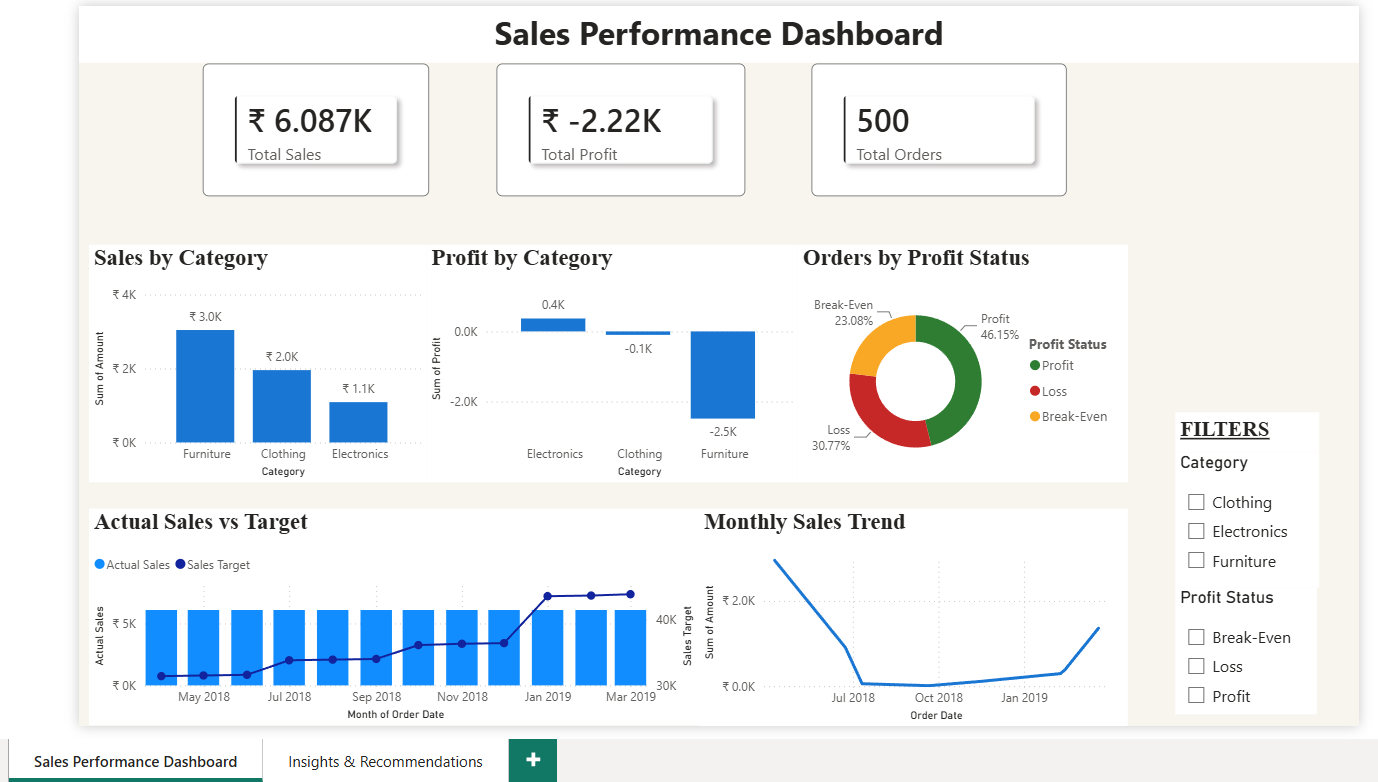

This screenshot's page, from the dashboard's own definition file:
{"tool":"powerbi","page":{"name":"Sales Performance Dashboard","canvas":[1280,720],"ordinal":0},"visuals":[{"type":"cardVisual","title":"Total Sales","fields":{"Data":["Sum(Orders Data.Amount)"]},"box":[123.8,57.5,226.2,132.5],"z":0},{"type":"cardVisual","title":"Total Profit","fields":{"Data":["Sum(Orders Data.Profit)"]},"box":[416.9,57.5,248.8,132.5],"z":1000},{"type":"cardVisual","title":"Total Orders","fields":{"Data":["Count(List of Orders.Order ID)"]},"box":[732.5,57.5,255,132.5],"z":2000},{"type":"clusteredColumnChart","title":"Sales by Category","fields":{"Category":["Orders Data.Category"],"Y":["Sum(Orders Data.Amount)"]},"box":[10,238.8,337.5,237.5],"z":3000},{"type":"clusteredColumnChart","title":"Profit by Category","fields":{"Category":["Orders Data.Category"],"Y":["Sum(Orders Data.Profit)"]},"box":[347.5,238.8,371.2,237.5],"z":4000},{"type":"donutChart","title":"Orders by Profit Status","fields":{"Category":["Orders Data.Profit Status"],"Y":["Count(Orders Data.Order ID)"]},"box":[718.8,238.8,330,237.5],"z":5000},{"type":"lineClusteredColumnComboChart","title":"Actual Sales vs Target","fields":{"Category":["Sales Target Summary.Month of Order Date"],"Y2":["Sum(Sales Target Summary.Total Target)"],"Y":["Sum(Orders Data.Amount)"]},"box":[10.4,502.7,610.2,216.7],"z":6000},{"type":"textbox","box":[0,0,1280,57.1],"z":7000},{"type":"slicer","title":"Category","fields":{"Values":["Orders Data.Category"]},"box":[1096.2,446.2,143.8,135],"z":8000},{"type":"slicer","title":"Profit Status","fields":{"Values":["Orders Data.Profit Status"]},"box":[1096.2,581.2,141.2,127.5],"z":9000},{"type":"lineChart","title":"Monthly Sales Trend","fields":{"Y":["Sum(Orders Data.Amount)"],"Category":["Orders Data.Order Date"]},"box":[620,502.5,428.8,217.5],"z":10000},{"type":"textbox","box":[1096.2,406.2,143.8,40],"z":11000}]}

Visuals, with their boxes in screenshot pixels (x1, y1, x2, y2), scaled from the page's 1280x720 canvas onto the 1378x782 screenshot:
"Total Sales" cardVisual: <box>133,62,377,206</box>
"Total Profit" cardVisual: <box>449,62,717,206</box>
"Total Orders" cardVisual: <box>789,62,1063,206</box>
"Sales by Category" clusteredColumnChart: <box>11,259,374,517</box>
"Profit by Category" clusteredColumnChart: <box>374,259,774,517</box>
"Orders by Profit Status" donutChart: <box>774,259,1129,517</box>
"Actual Sales vs Target" lineClusteredColumnComboChart: <box>11,546,668,781</box>
textbox: <box>0,0,1377,62</box>
"Category" slicer: <box>1180,485,1335,631</box>
"Profit Status" slicer: <box>1180,631,1332,770</box>
"Monthly Sales Trend" lineChart: <box>667,546,1129,781</box>
textbox: <box>1180,441,1335,485</box>
